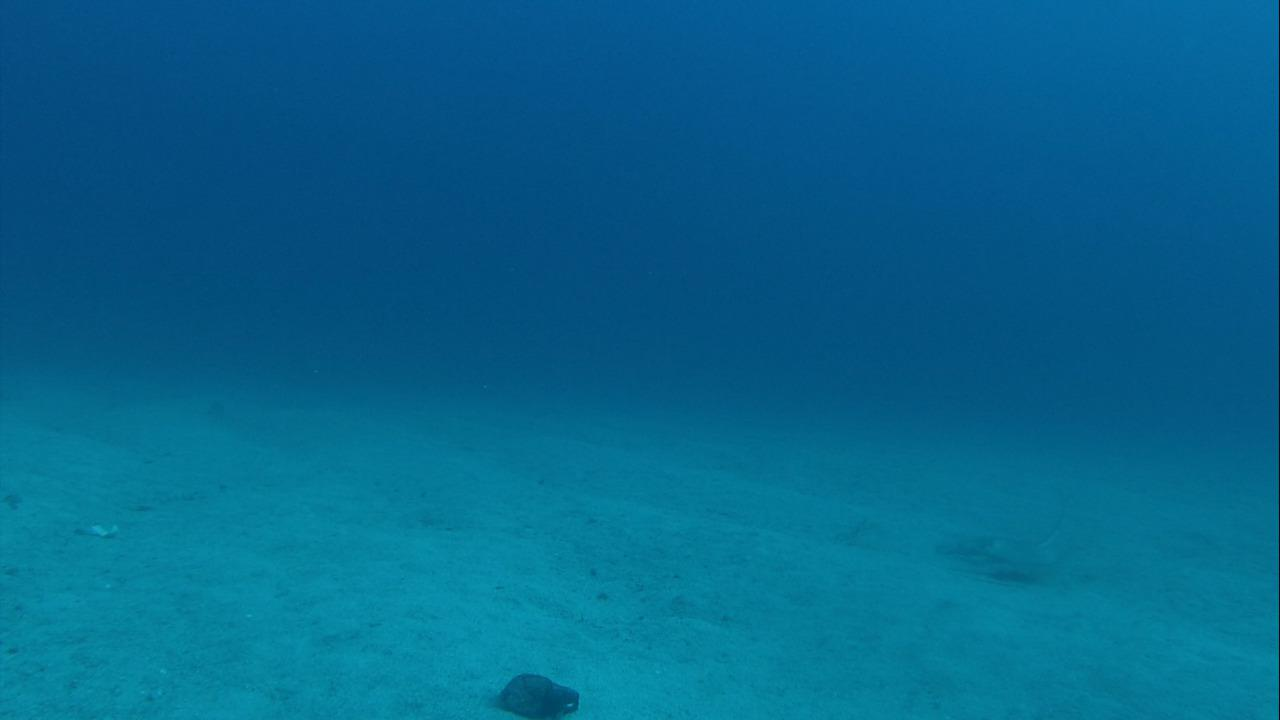myliobatis: (913, 487, 1084, 587)
